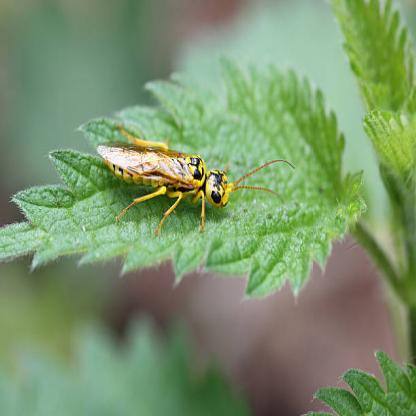sawfly: (93, 112, 297, 244)
